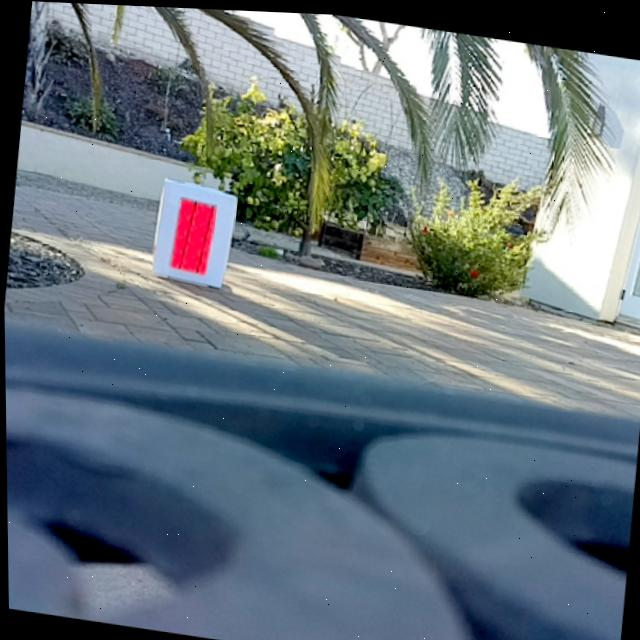led: (168, 193, 217, 276)
